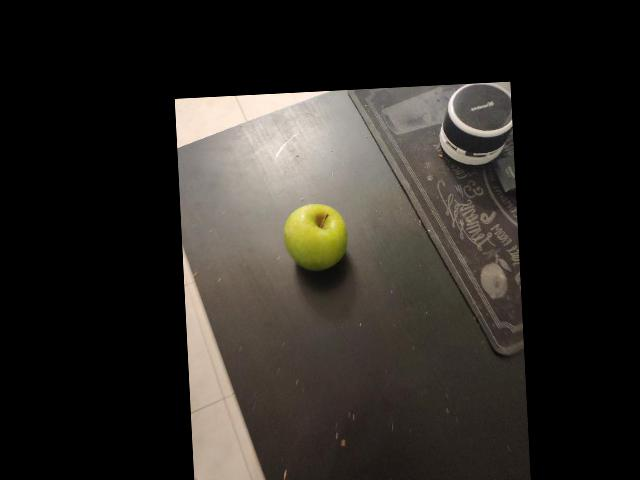apple: (282, 198, 357, 280)
